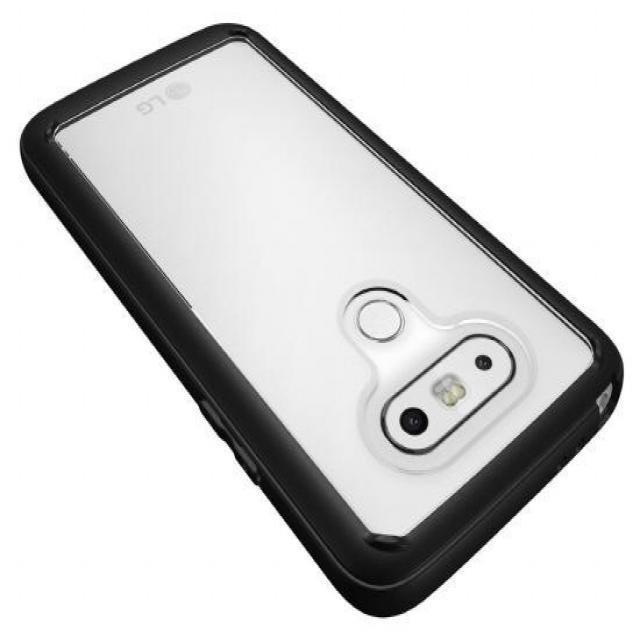Mobile: (28, 19, 632, 596)
